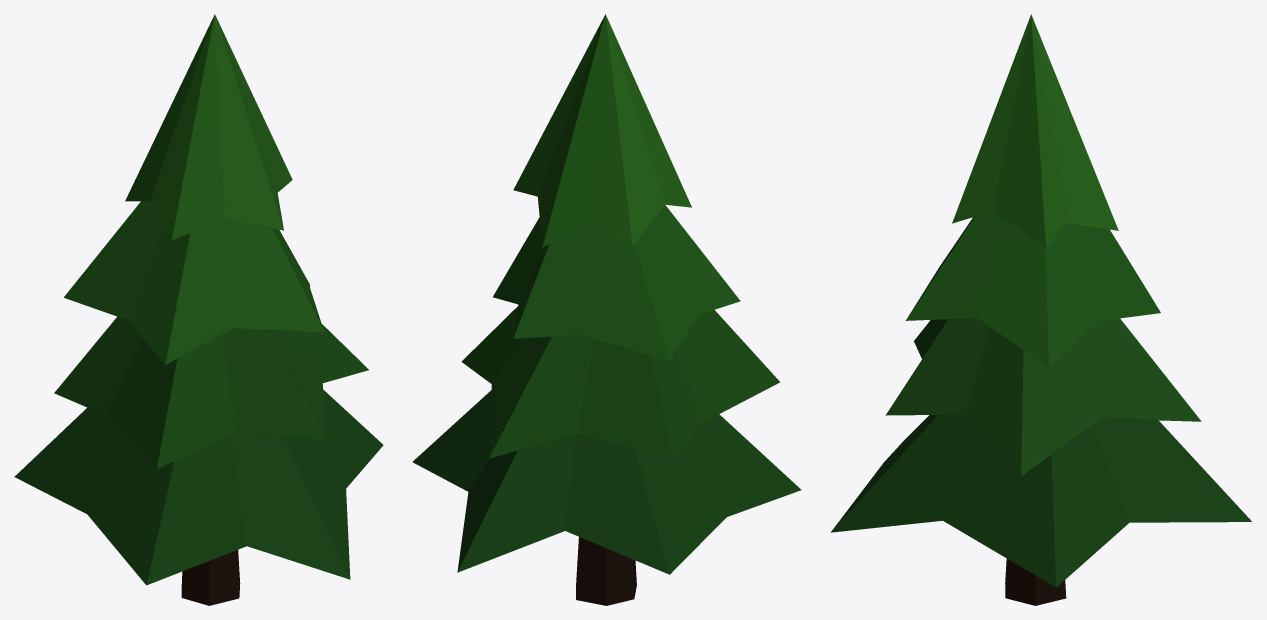
File: pine.obj
3 renders of one model, left to right at view 1: azimuth 30°, elevation 25°; view 2: azimuth 150°, elevation 25°; view 3: azimuth 270°, elevation 25°, orthographic.
Visible parts, largest first — view 1: Leaves1, Leaves2, Leaves3, Leaves4, Trunk; view 2: Leaves1, Leaves2, Leaves3, Leaves4, Trunk; view 3: Leaves1, Leaves2, Leaves3, Leaves4, Trunk.
Boxes of the visible parts, box(x1,y1,x2,y2) form: Leaves1: box(14, 389, 383, 585); Leaves2: box(54, 316, 368, 468); Leaves3: box(64, 201, 324, 364); Leaves4: box(125, 14, 292, 239); Trunk: box(181, 550, 240, 605); Leaves1: box(412, 390, 801, 574); Leaves2: box(461, 306, 779, 459); Leaves3: box(493, 205, 740, 360); Leaves4: box(513, 14, 691, 247); Trunk: box(576, 537, 636, 605); Leaves1: box(831, 414, 1251, 587); Leaves2: box(885, 318, 1201, 476); Leaves3: box(906, 211, 1160, 367); Leaves4: box(952, 14, 1118, 247); Trunk: box(1005, 558, 1066, 605).
Size of the model in its own units: 12.11 by 21.3 by 14.08.
